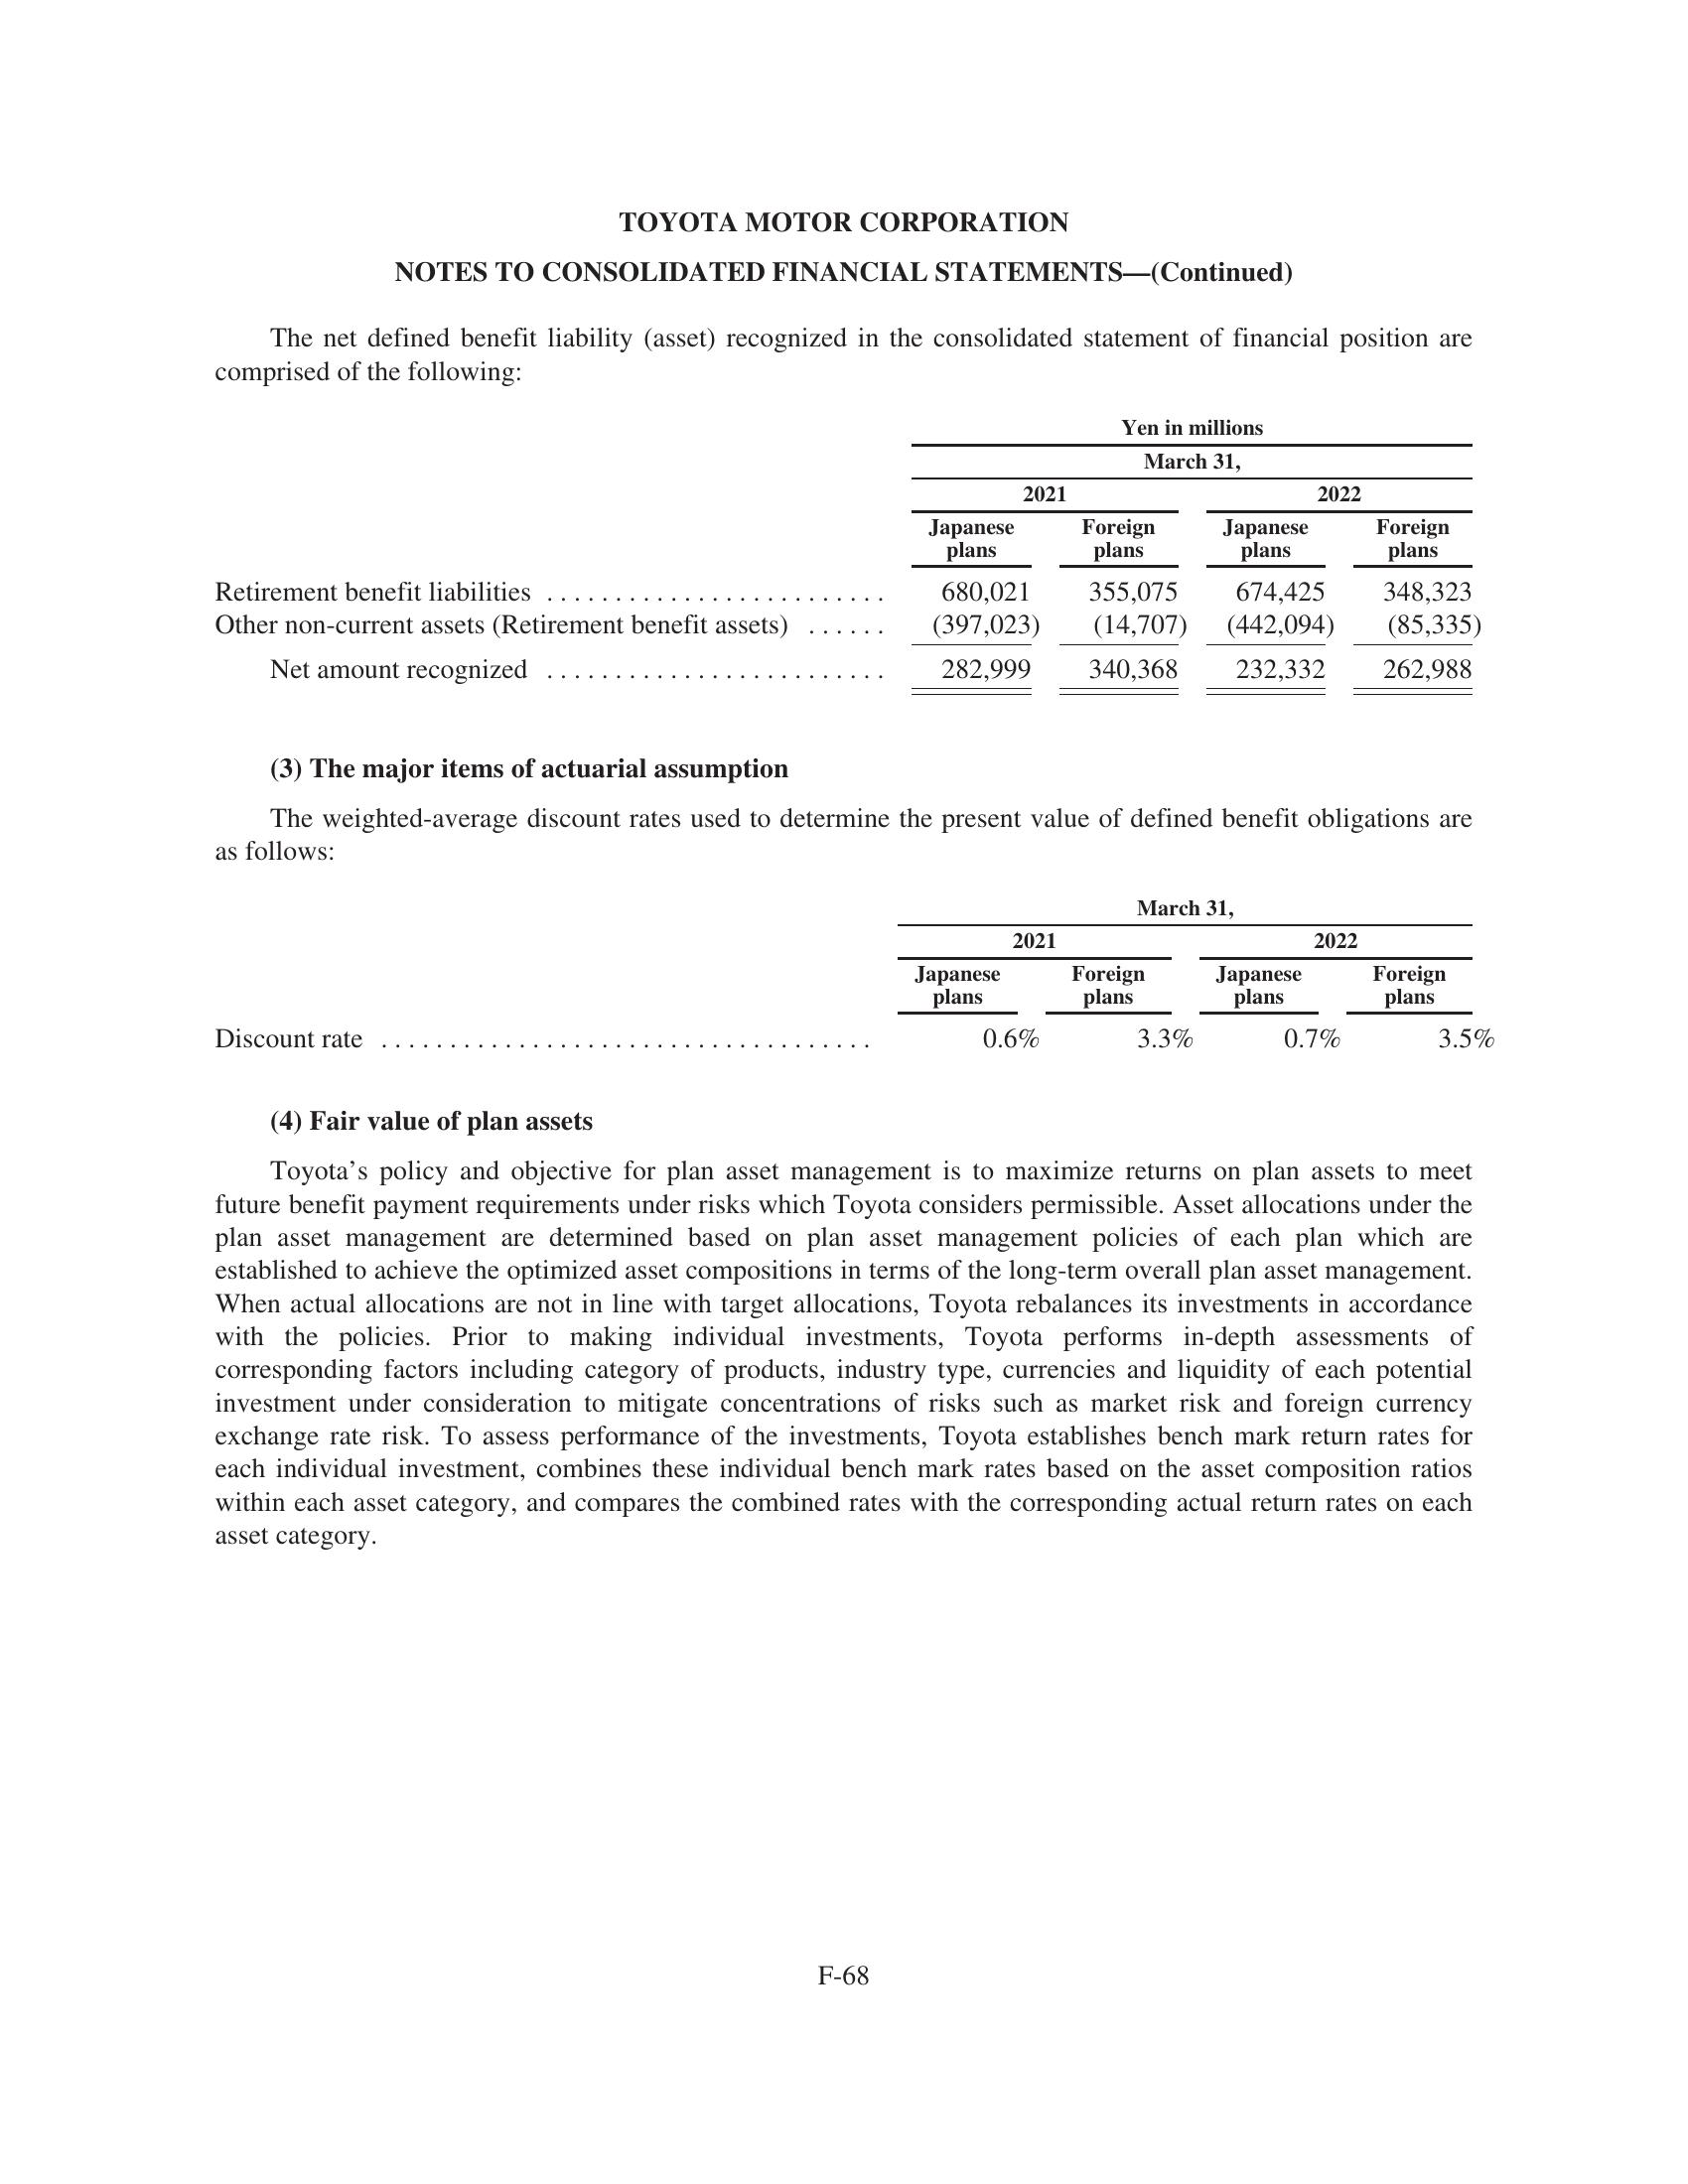Footer: (0, 1959, 1688, 2184)
Header: (0, 0, 1688, 188)
Table: (176, 404, 1500, 690), (170, 886, 1495, 1103)
